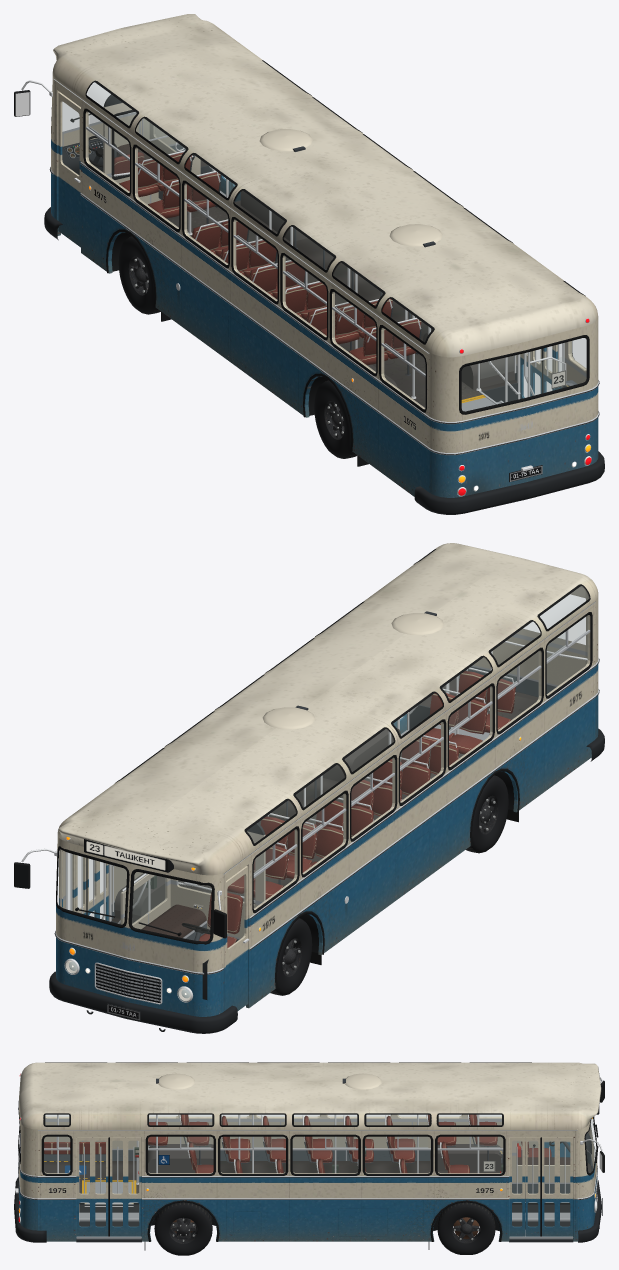
Rendered from bus.glb.
3 views of the same model, one above another, from view 1: azimuth 30°, elevation 25°; view 2: azimuth 150°, elevation 25°; view 3: azimuth 270°, elevation 25° (orthographic). The views are drawn at different scales.
Parts seen in each view (by area): view 1: Body_Roof_RadiusedShell, Body_Flank_Left_DriverDoor, Body_RearEnd, Glass_SideWindows_SlidingVents, Windows_RubberGaskets_HSection, Seats_Backrests_BurgundyDermatine, Glass_RearWindow, Glass_RoofEdge_Skylights, Interior_Floor_RibbedRubber, Body_Moldings_Aluminium_Gutters, Bumper_Rear_WrapAround, Tyre_10.00R20_I281_Outer (+13 smaller); view 2: Body_Roof_RadiusedShell, Body_Flank_Left_DriverDoor, Glass_SideWindows_SlidingVents, Body_FrontEnd_Panoramic, Windows_RubberGaskets_HSection, Seats_Backrests_BurgundyDermatine, Glass_Windscreen_V_Panoramic, Glass_RoofEdge_Skylights, Body_RearEnd_InnerLining, Body_Moldings_Aluminium_Gutters, Bumper_Front_WrapAround, Tyre_10.00R20_I281_Outer (+19 smaller); view 3: Body_Roof_RadiusedShell, Body_Flank_Right_2Doors, Glass_SideWindows_SlidingVents, Body_Flank_Left_DriverDoor, Windows_RubberGaskets_HSection, Tyre_10.00R20_I281_Outer, Seats_Cushions_BurgundyDermatine, Interior_Floor_RibbedRubber, Glass_RoofEdge_Skylights, Interior_WheelHousing_Podiums, Body_Moldings_Aluminium_Gutters, Body_RearEnd (+35 smaller).
Part boxes in pixels (x1=…): Body_Roof_RadiusedShell: x1=52, y1=14, x2=598, y2=357; Body_Flank_Left_DriverDoor: x1=54, y1=77, x2=429, y2=496; Body_RearEnd: x1=429, y1=318, x2=598, y2=497; Glass_SideWindows_SlidingVents: x1=87, y1=112, x2=585, y2=408; Windows_RubberGaskets_HSection: x1=51, y1=60, x2=589, y2=414; Seats_Backrests_BurgundyDermatine: x1=138, y1=151, x2=421, y2=356; Glass_RearWindow: x1=462, y1=338, x2=585, y2=410; Glass_RoofEdge_Skylights: x1=88, y1=83, x2=431, y2=341; Interior_Floor_RibbedRubber: x1=166, y1=160, x2=517, y2=407; Body_Moldings_Aluminium_Gutters: x1=50, y1=78, x2=598, y2=455; Bumper_Rear_WrapAround: x1=414, y1=451, x2=604, y2=514; Tyre_10.00R20_I281_Outer: x1=118, y1=236, x2=357, y2=458; Body_Roof_RadiusedShell: x1=57, y1=543, x2=598, y2=875; Body_Flank_Left_DriverDoor: x1=222, y1=600, x2=595, y2=1011; Glass_SideWindows_SlidingVents: x1=254, y1=615, x2=588, y2=909; Body_FrontEnd_Panoramic: x1=56, y1=836, x2=222, y2=1016; Windows_RubberGaskets_HSection: x1=56, y1=549, x2=592, y2=944; Seats_Backrests_BurgundyDermatine: x1=253, y1=671, x2=515, y2=879; Glass_Windscreen_V_Panoramic: x1=58, y1=850, x2=211, y2=940; Glass_RoofEdge_Skylights: x1=247, y1=586, x2=588, y2=842; Body_RearEnd_InnerLining: x1=455, y1=587, x2=589, y2=697; Body_Moldings_Aluminium_Gutters: x1=55, y1=601, x2=598, y2=974; Bumper_Front_WrapAround: x1=49, y1=971, x2=237, y2=1033; Tyre_10.00R20_I281_Outer: x1=270, y1=775, x2=508, y2=995; Body_Roof_RadiusedShell: x1=19, y1=1062, x2=601, y2=1129; Body_Flank_Right_2Doors: x1=38, y1=1129, x2=577, y2=1241; Glass_SideWindows_SlidingVents: x1=44, y1=1115, x2=502, y2=1172; Body_Flank_Left_DriverDoor: x1=44, y1=1114, x2=538, y2=1160; Windows_RubberGaskets_HSection: x1=18, y1=1062, x2=597, y2=1175; Tyre_10.00R20_I281_Outer: x1=154, y1=1202, x2=495, y2=1255; Seats_Cushions_BurgundyDermatine: x1=148, y1=1121, x2=497, y2=1173; Interior_Floor_RibbedRubber: x1=44, y1=1161, x2=591, y2=1204; Glass_RoofEdge_Skylights: x1=46, y1=1115, x2=501, y2=1124; Interior_WheelHousing_Podiums: x1=148, y1=1144, x2=502, y2=1173; Body_Moldings_Aluminium_Gutters: x1=18, y1=1130, x2=597, y2=1199; Body_RearEnd: x1=19, y1=1105, x2=37, y2=1230.
Bounding box in the file's own units: 3.24 × 3.01 × 10.76.
Materials: 62 (30 with a texture image).
